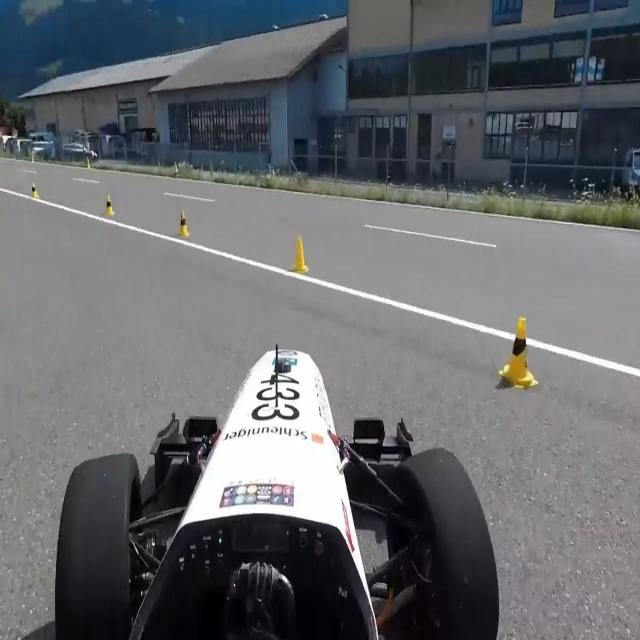yellow_cone: (502, 314, 535, 390), (289, 232, 307, 275), (177, 210, 189, 240), (103, 192, 113, 218), (30, 182, 38, 203)
